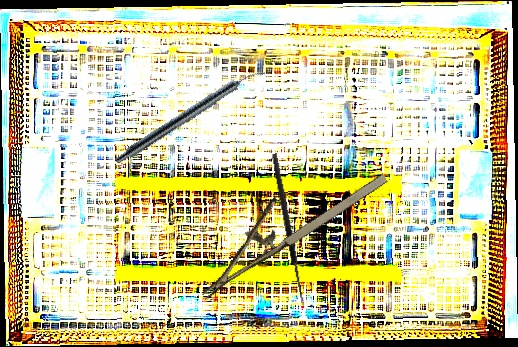Handpiece: (112, 61, 267, 170)
Hook Surgical: (270, 151, 315, 309)
Needle Holder: (178, 143, 392, 300)
